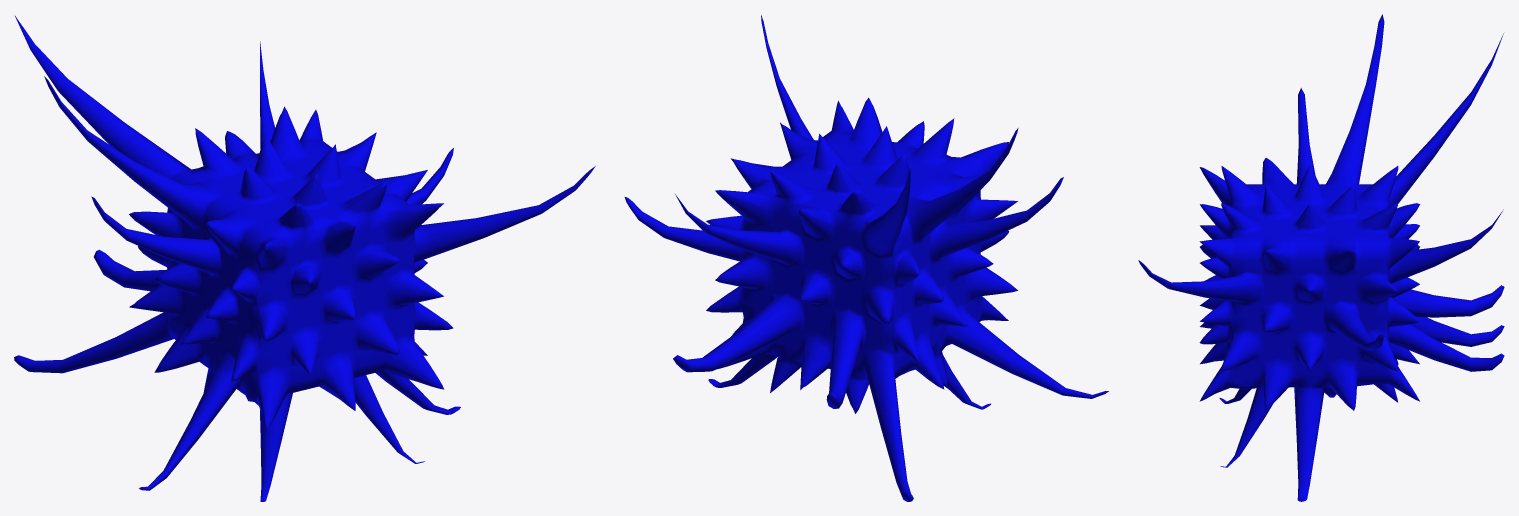
File: enemigo 5.fbx
3 renders of one model, left to right at view 1: azimuth 30°, elevation 25°; view 2: azimuth 150°, elevation 25°; view 3: azimuth 270°, elevation 25°, orthographic. The views are drawn at different scales.
Parts seen in each view (by area): view 1: pCube1; view 2: pCube1; view 3: pCube1.
Boxes of the visible parts, x1=… form: pCube1: x1=14, y1=16, x2=595, y2=501; pCube1: x1=624, y1=15, x2=1108, y2=501; pCube1: x1=1138, y1=14, x2=1504, y2=501.
Bounding box in the file's own units: 2.57 × 2.33 × 2.31.
